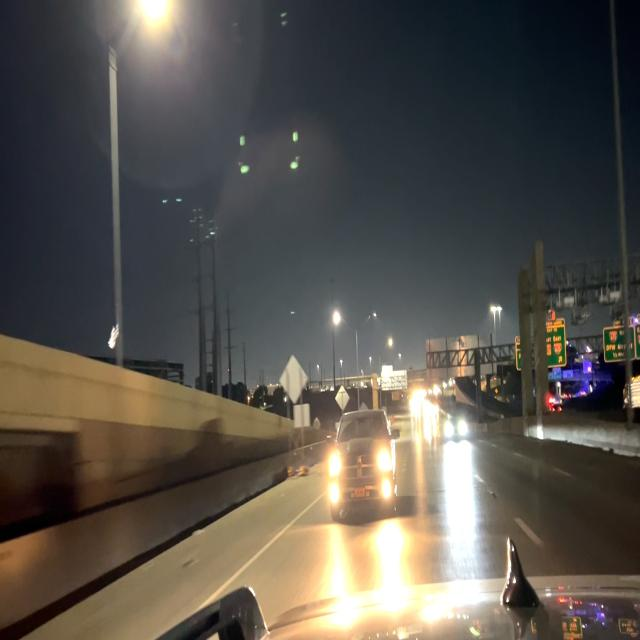back-of-sign: (426, 334, 498, 377), (281, 355, 308, 401), (292, 402, 311, 427)
